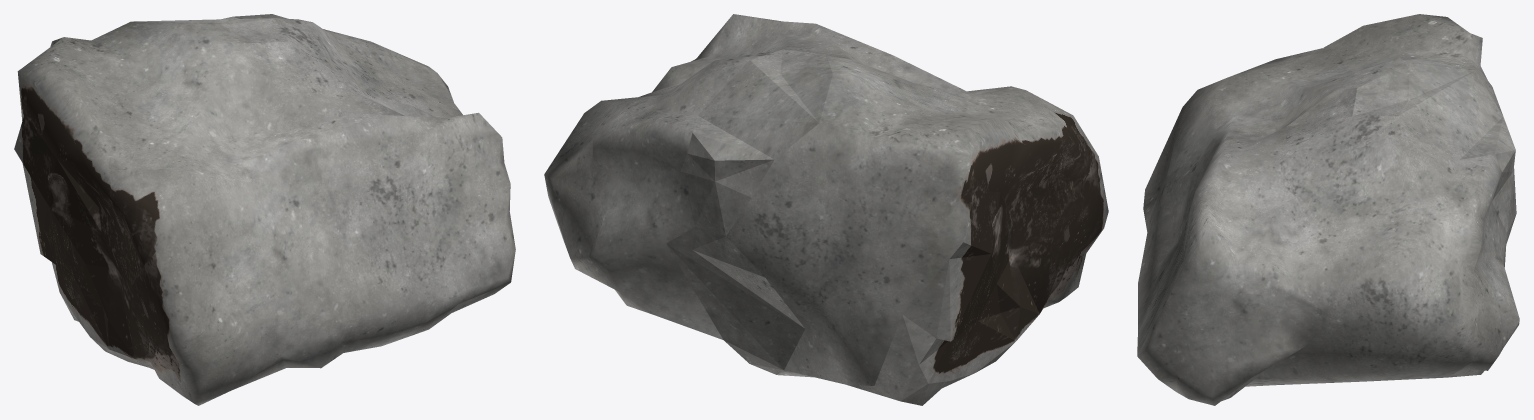
The model's file is Broken flint MESH.fbx.
The picture shows the model from 3 angles, left to right: view 1: azimuth 30°, elevation 25°; view 2: azimuth 150°, elevation 25°; view 3: azimuth 270°, elevation 25°; orthographic projection. The views are drawn at different scales.
Visible parts, largest first — view 1: Full, Part_1, Part_4, Part_3; view 2: Full, Part_3, Part_1, Part_4, Part_5; view 3: Full, Part_2, Part_3, Part_4, Part_5.
Boxes of the visible parts, x1,y1,x2,y2 form: Full: (17, 14, 515, 405); Part_1: (14, 113, 147, 367); Part_4: (210, 104, 311, 249); Part_3: (134, 16, 295, 94); Full: (544, 14, 1108, 385); Part_3: (666, 49, 851, 374); Part_1: (846, 190, 1039, 405); Part_4: (889, 55, 1008, 93); Part_5: (652, 64, 708, 91); Full: (1137, 14, 1519, 381); Part_2: (1153, 286, 1409, 405); Part_3: (1287, 63, 1516, 243); Part_4: (1166, 94, 1289, 182); Part_5: (1263, 194, 1328, 314).
Size of the model in its own units: 9.39 by 6.53 by 7.78.
